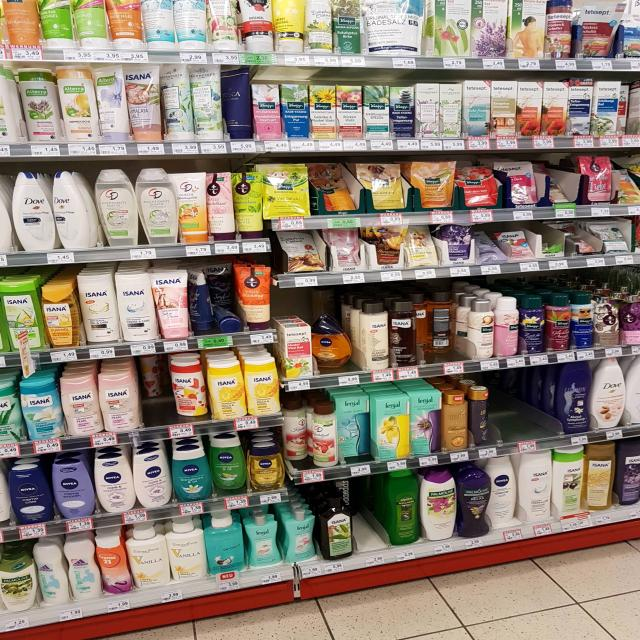void: (496, 368, 552, 442), (364, 475, 385, 549)
